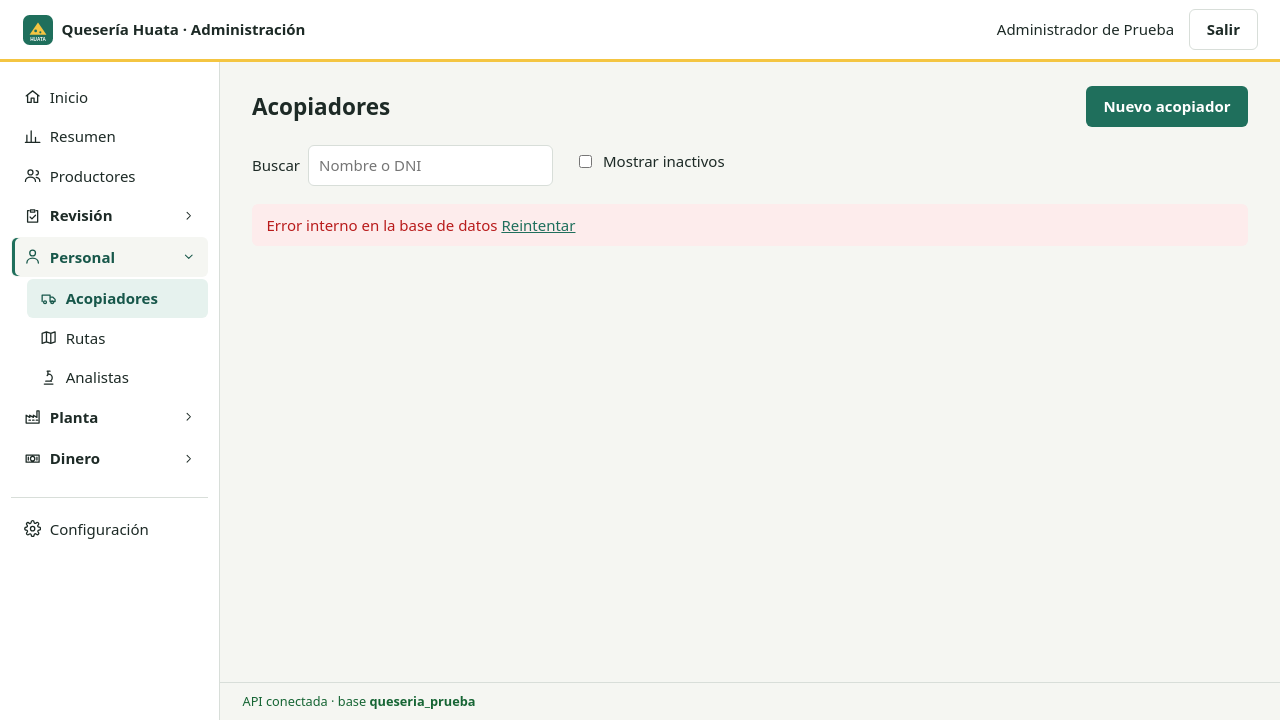
Test case: lista de acopiadores › si falla la carga, lo dice y deja reintentar
Expected: the message shows "Error interno en la base de datos", [266,214,498,234]
Click the button "Reintentar" at (538, 225), box [501,214,576,236]
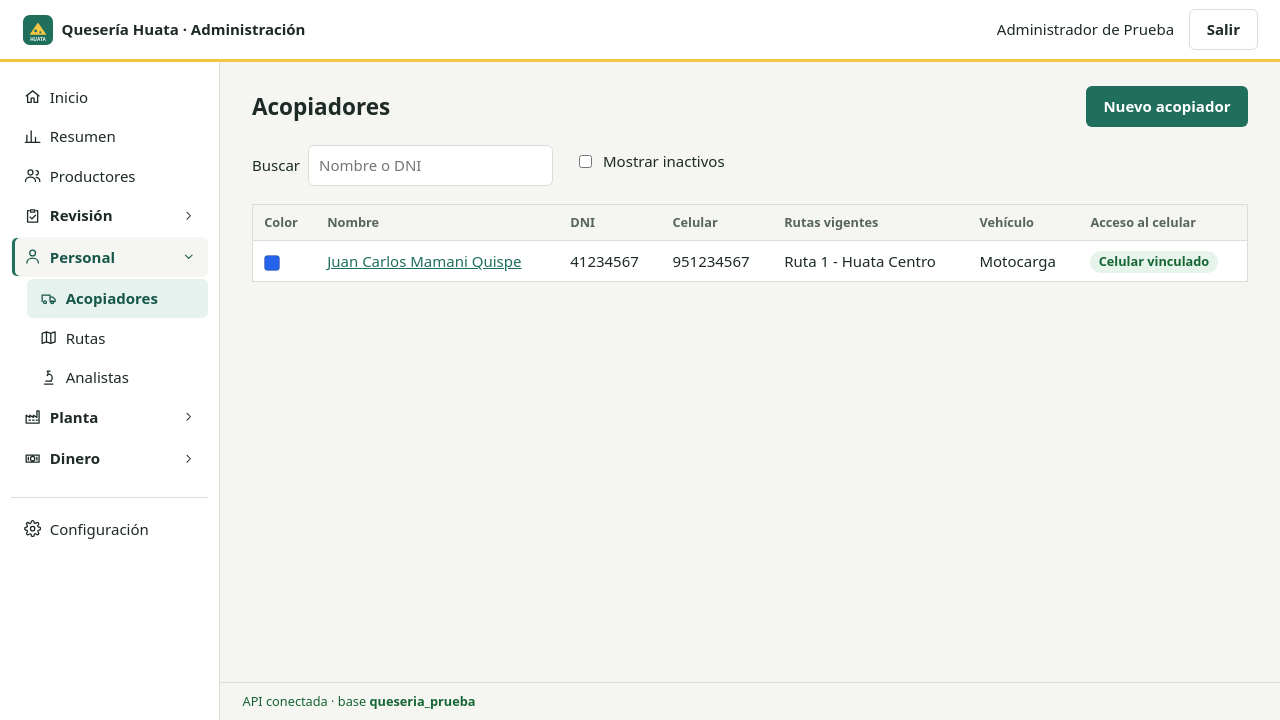
Now the link "Juan Carlos Mamani Quispe" is shown, box [327,251,522,271]
